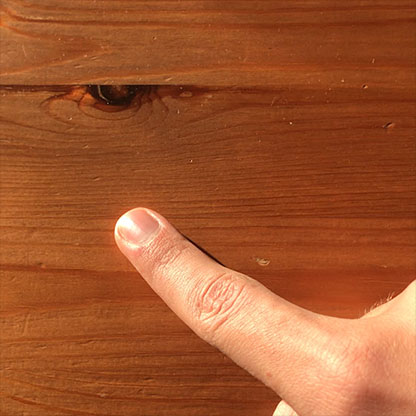fingertip: (99, 200, 170, 260)
